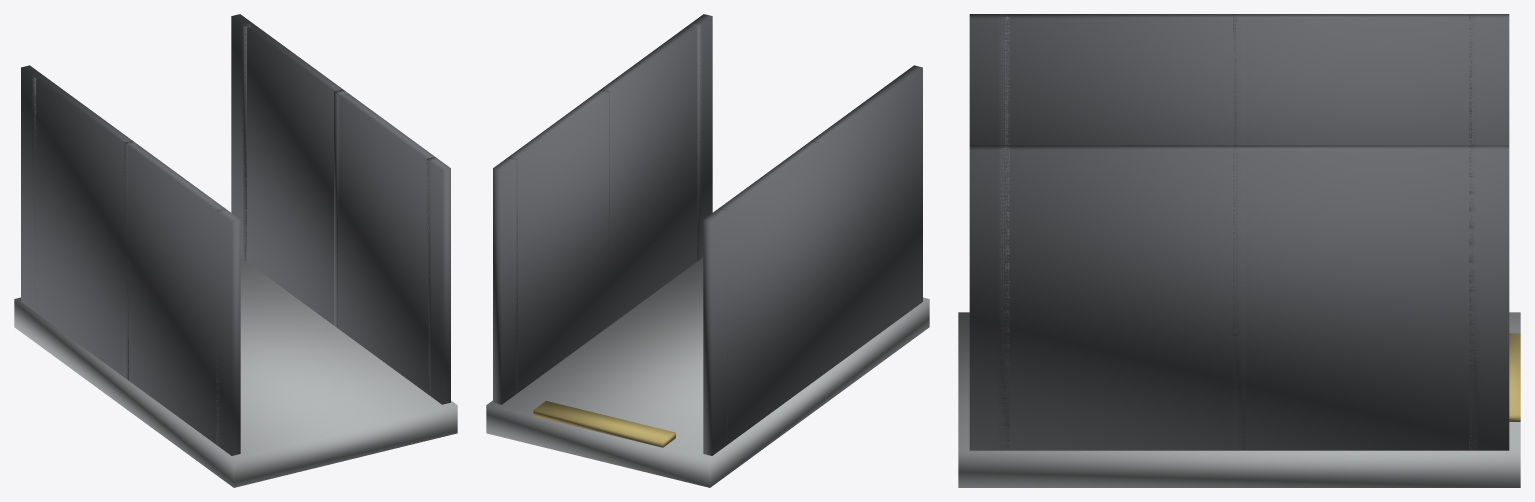
File: floor_w100_d170_sides.glb
3 views of the same model, side by side, from view 1: azimuth 30°, elevation 25°; view 2: azimuth 150°, elevation 25°; view 3: azimuth 270°, elevation 25° (orthographic). The views are drawn at different scales.
Parts seen in each view (by area): view 1: world; view 2: world; view 3: world.
Boxes of the visible parts, x1=… form: world: x1=14, y1=14, x2=457, y2=487; world: x1=486, y1=14, x2=929, y2=487; world: x1=958, y1=14, x2=1520, y2=487.
Size of the model in its own units: 1 by 1.12 by 1.7.
